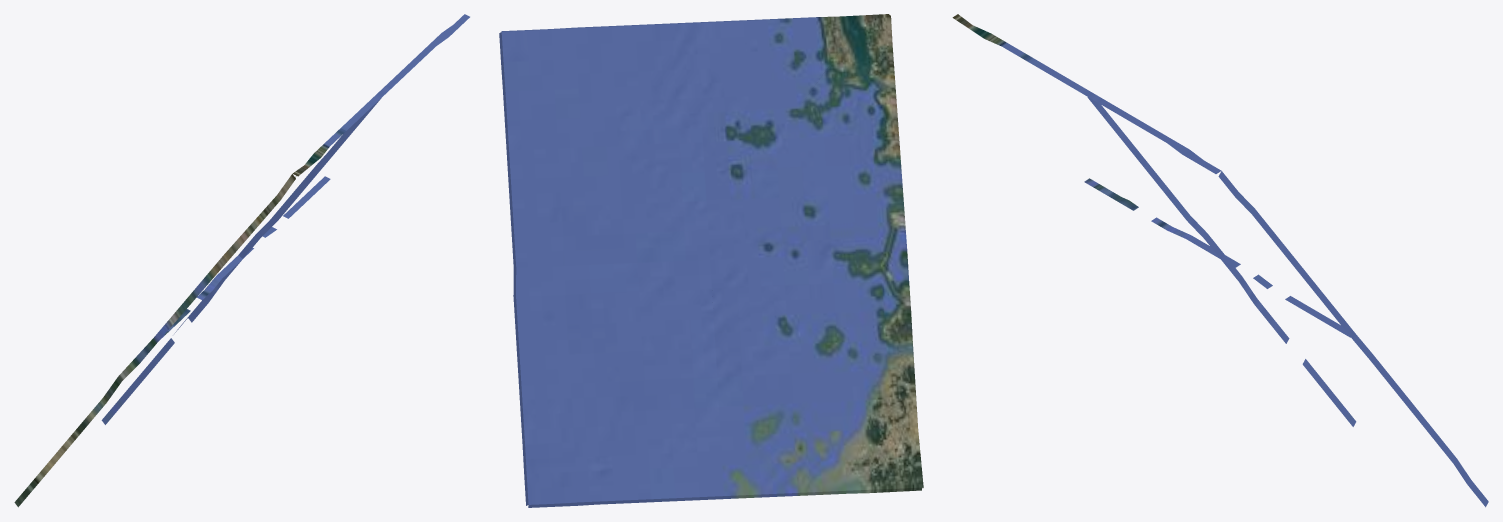
3 renders of one model, left to right at view 1: azimuth 30°, elevation 25°; view 2: azimuth 150°, elevation 25°; view 3: azimuth 270°, elevation 25°, orthographic. The views are drawn at different scales.
Bounding box in the file's own units: 159351 × 129123 × 150322.
1 material, 1 textured.
